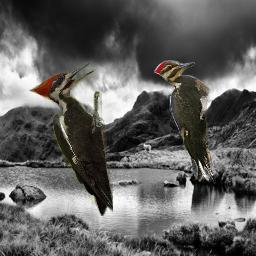Woodpecker: (29, 62, 113, 216), (154, 60, 216, 184)
